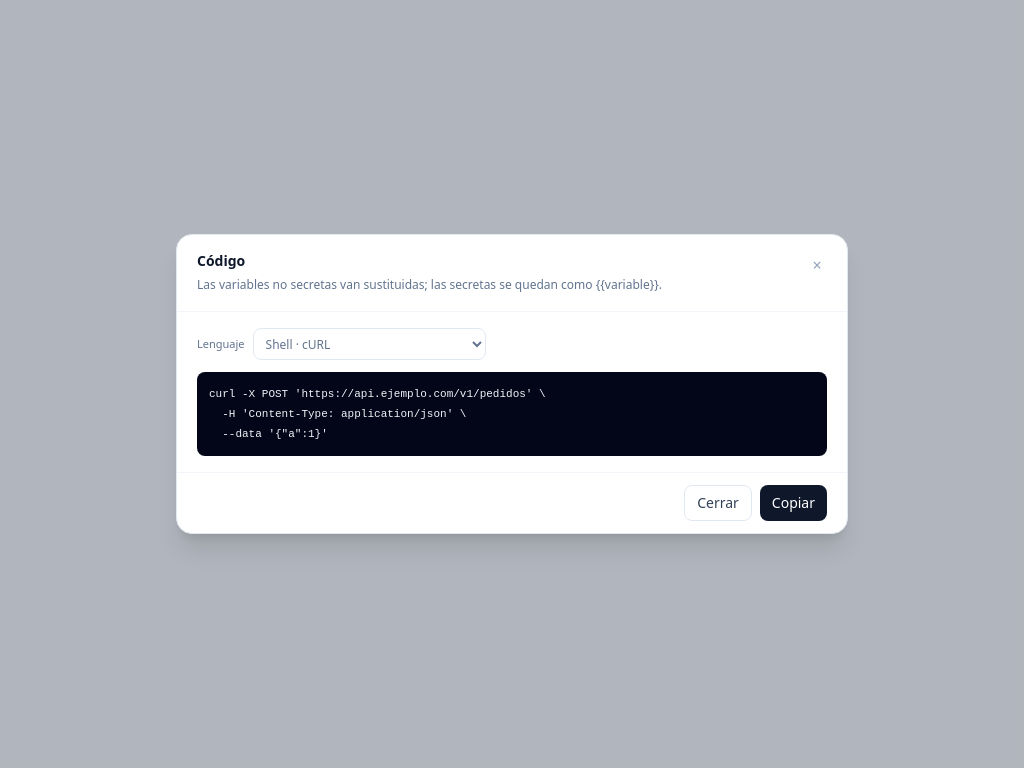
Test: elegir el lenguaje › cambiarlo cambia el código
Select "Python · requests" in the dropdown labelled "Lenguaje" at [369, 344], box x1=252 y1=328 x2=486 y2=360
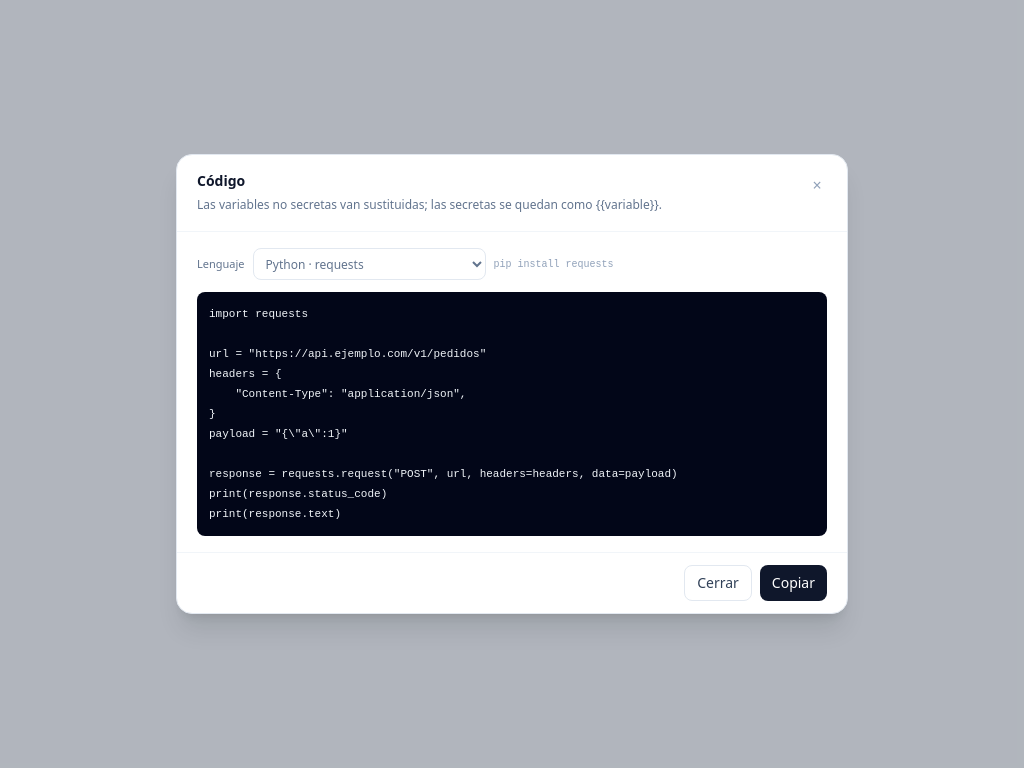
Now the text "import requests" is shown, box x1=209 y1=308 x2=678 y2=520
Now the text "curl -X POST" is gone
